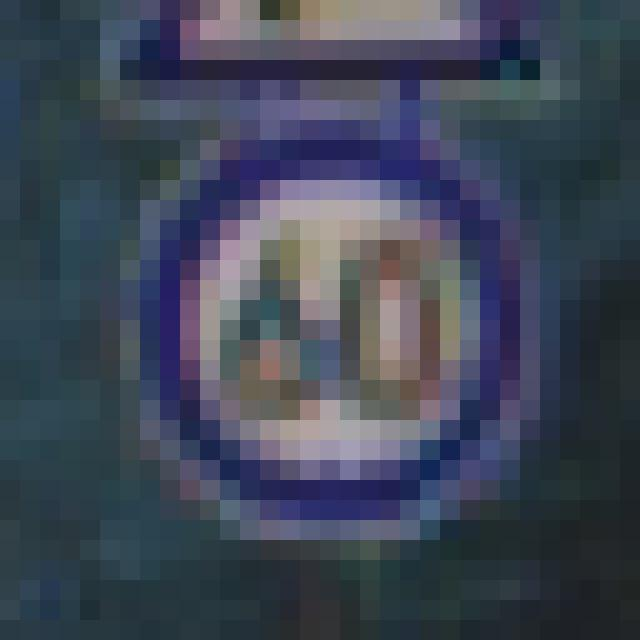SPEED-LIMIT-60: (83, 113, 560, 560)
